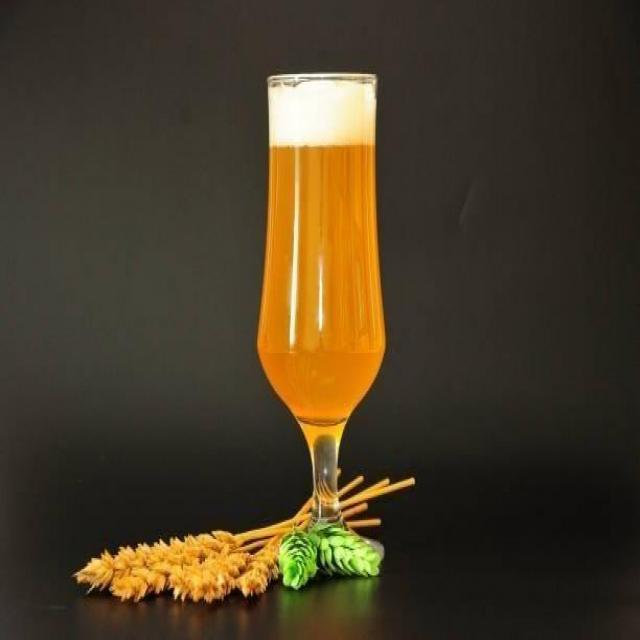glass-wine: (254, 69, 390, 574)
